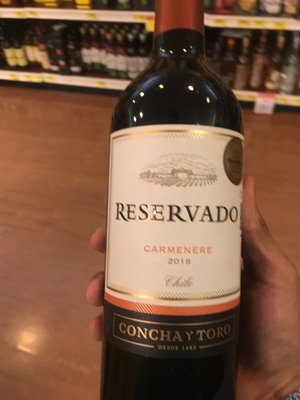reservado carmenere: (99, 16, 252, 400)
